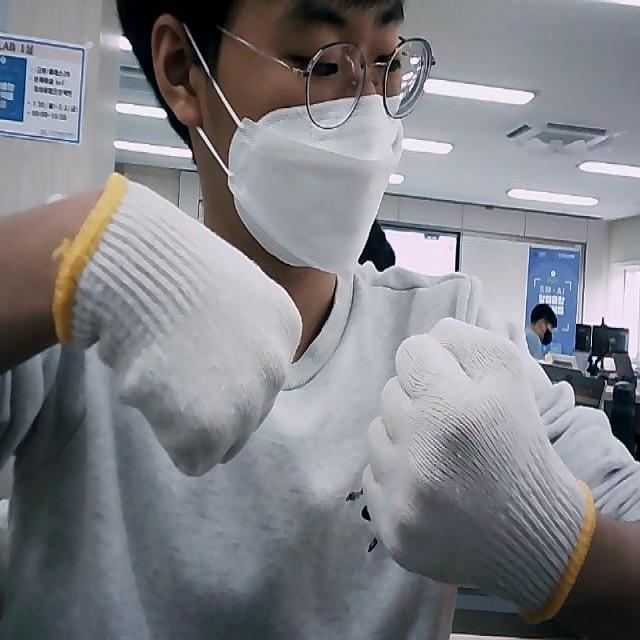gloves: (54, 172, 304, 476), (361, 316, 597, 618)
